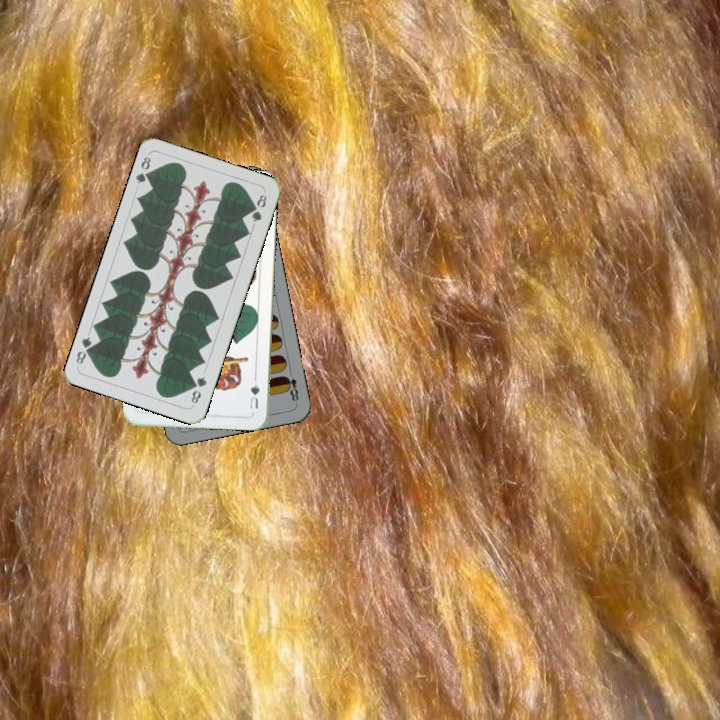E8: (281, 366, 301, 404)
G8: (132, 152, 156, 186), (187, 372, 209, 408)
GU: (246, 380, 262, 412)
